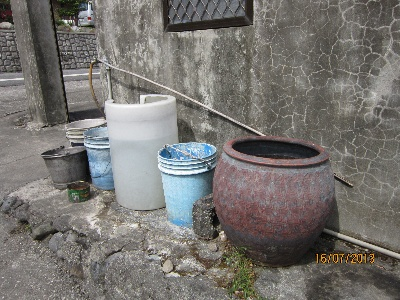bowl: (212, 133, 336, 270)
bucket: (104, 92, 178, 212), (157, 140, 218, 229), (39, 144, 91, 190), (83, 135, 117, 192), (65, 181, 91, 202)
